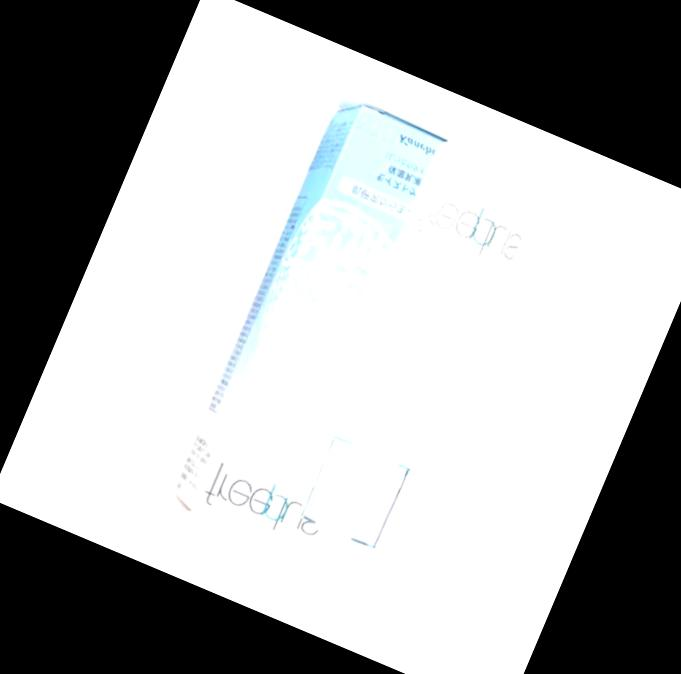cosmetic: (279, 131, 556, 561)
